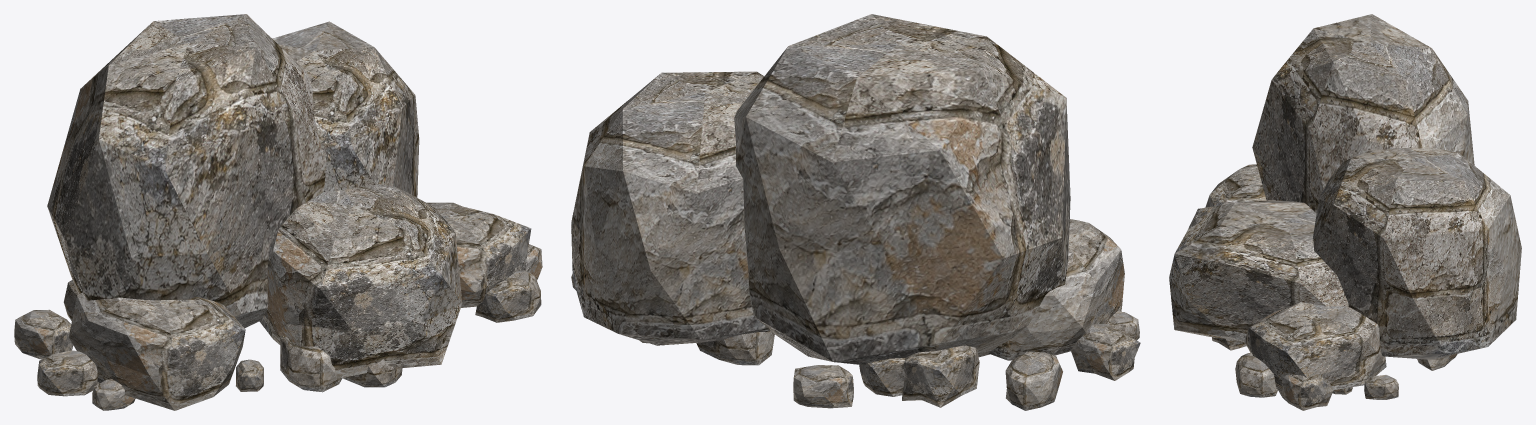
The model's file is grey-outcrop-photo.glb.
3 views of the same model, side by side, from view 1: azimuth 30°, elevation 25°; view 2: azimuth 150°, elevation 25°; view 3: azimuth 270°, elevation 25° (orthographic). The views are drawn at different scales.
Parts seen in each view (by area): view 1: Grey rocks | main split face, Grey rocks | front ledge, Grey rocks | back shoulder, Grey rocks | left fallen slab, Grey rocks | right broken slab, Grey rocks | fragment 05, Grey rocks | fragment 04, Grey rocks | fragment 09, Grey rocks | fragment 15, Grey rocks | fragment 12, Grey rocks | fragment 02, Grey rocks | fragment 07; view 2: Grey rocks | main split face, Grey rocks | back shoulder, Grey rocks | left fallen slab, Grey rocks | fragment 01, Grey rocks | fragment 04, Grey rocks | fragment 09, Grey rocks | fragment 06, Grey rocks | fragment 11, Grey rocks | fragment 14, Grey rocks | fragment 12; view 3: Grey rocks | back shoulder, Grey rocks | main split face, Grey rocks | front ledge, Grey rocks | right broken slab, Grey rocks | left fallen slab, Grey rocks | fragment 13, Grey rocks | fragment 05, Grey rocks | fragment 08, Grey rocks | fragment 03.
Boxes of the visible parts, x1,y1,x2,y2 form: Grey rocks | main split face: (47, 14, 326, 327); Grey rocks | front ledge: (259, 184, 462, 378); Grey rocks | back shoulder: (272, 21, 419, 197); Grey rocks | left fallen slab: (69, 293, 245, 410); Grey rocks | right broken slab: (427, 202, 531, 307); Grey rocks | fragment 05: (475, 269, 541, 322); Grey rocks | fragment 04: (37, 350, 99, 396); Grey rocks | fragment 09: (14, 309, 73, 359); Grey rocks | fragment 15: (280, 335, 342, 392); Grey rocks | fragment 12: (92, 379, 135, 410); Grey rocks | fragment 02: (342, 359, 402, 387); Grey rocks | fragment 07: (236, 359, 263, 391); Grey rocks | main split face: (734, 14, 1070, 365); Grey rocks | back shoulder: (571, 71, 770, 345); Grey rocks | left fallen slab: (988, 219, 1124, 360); Grey rocks | fragment 01: (902, 345, 979, 407); Grey rocks | fragment 04: (1071, 324, 1140, 380); Grey rocks | fragment 09: (1005, 351, 1062, 410); Grey rocks | fragment 06: (793, 365, 853, 408); Grey rocks | fragment 11: (696, 331, 774, 365); Grey rocks | fragment 14: (859, 358, 905, 396); Grey rocks | fragment 12: (1107, 311, 1139, 340); Grey rocks | back shoulder: (1313, 147, 1521, 359); Grey rocks | main split face: (1252, 14, 1474, 212); Grey rocks | front ledge: (1169, 200, 1348, 343); Grey rocks | right broken slab: (1244, 302, 1386, 391); Grey rocks | left fallen slab: (1205, 164, 1266, 207); Grey rocks | fragment 13: (1278, 374, 1333, 410); Grey rocks | fragment 05: (1235, 353, 1277, 397); Grey rocks | fragment 08: (1364, 375, 1398, 399); Grey rocks | fragment 03: (1417, 354, 1457, 370).
Bounding box in the file's own units: 3.45 × 1.9 × 2.5.
Materials: 1 (1 with a texture image).
